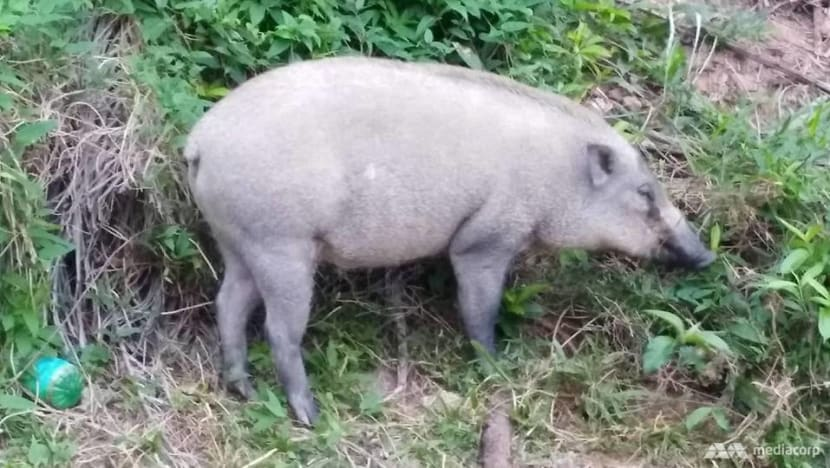boar: (179, 47, 722, 433)
